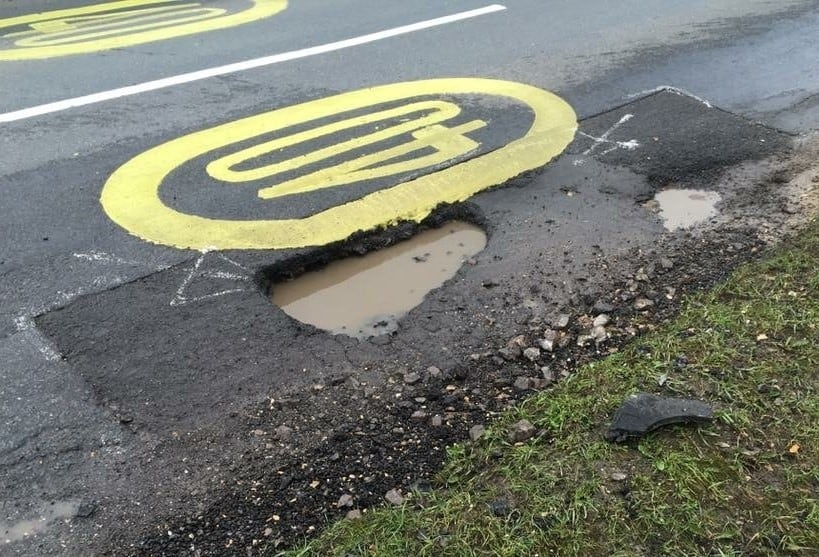pothole: (248, 182, 599, 352)
